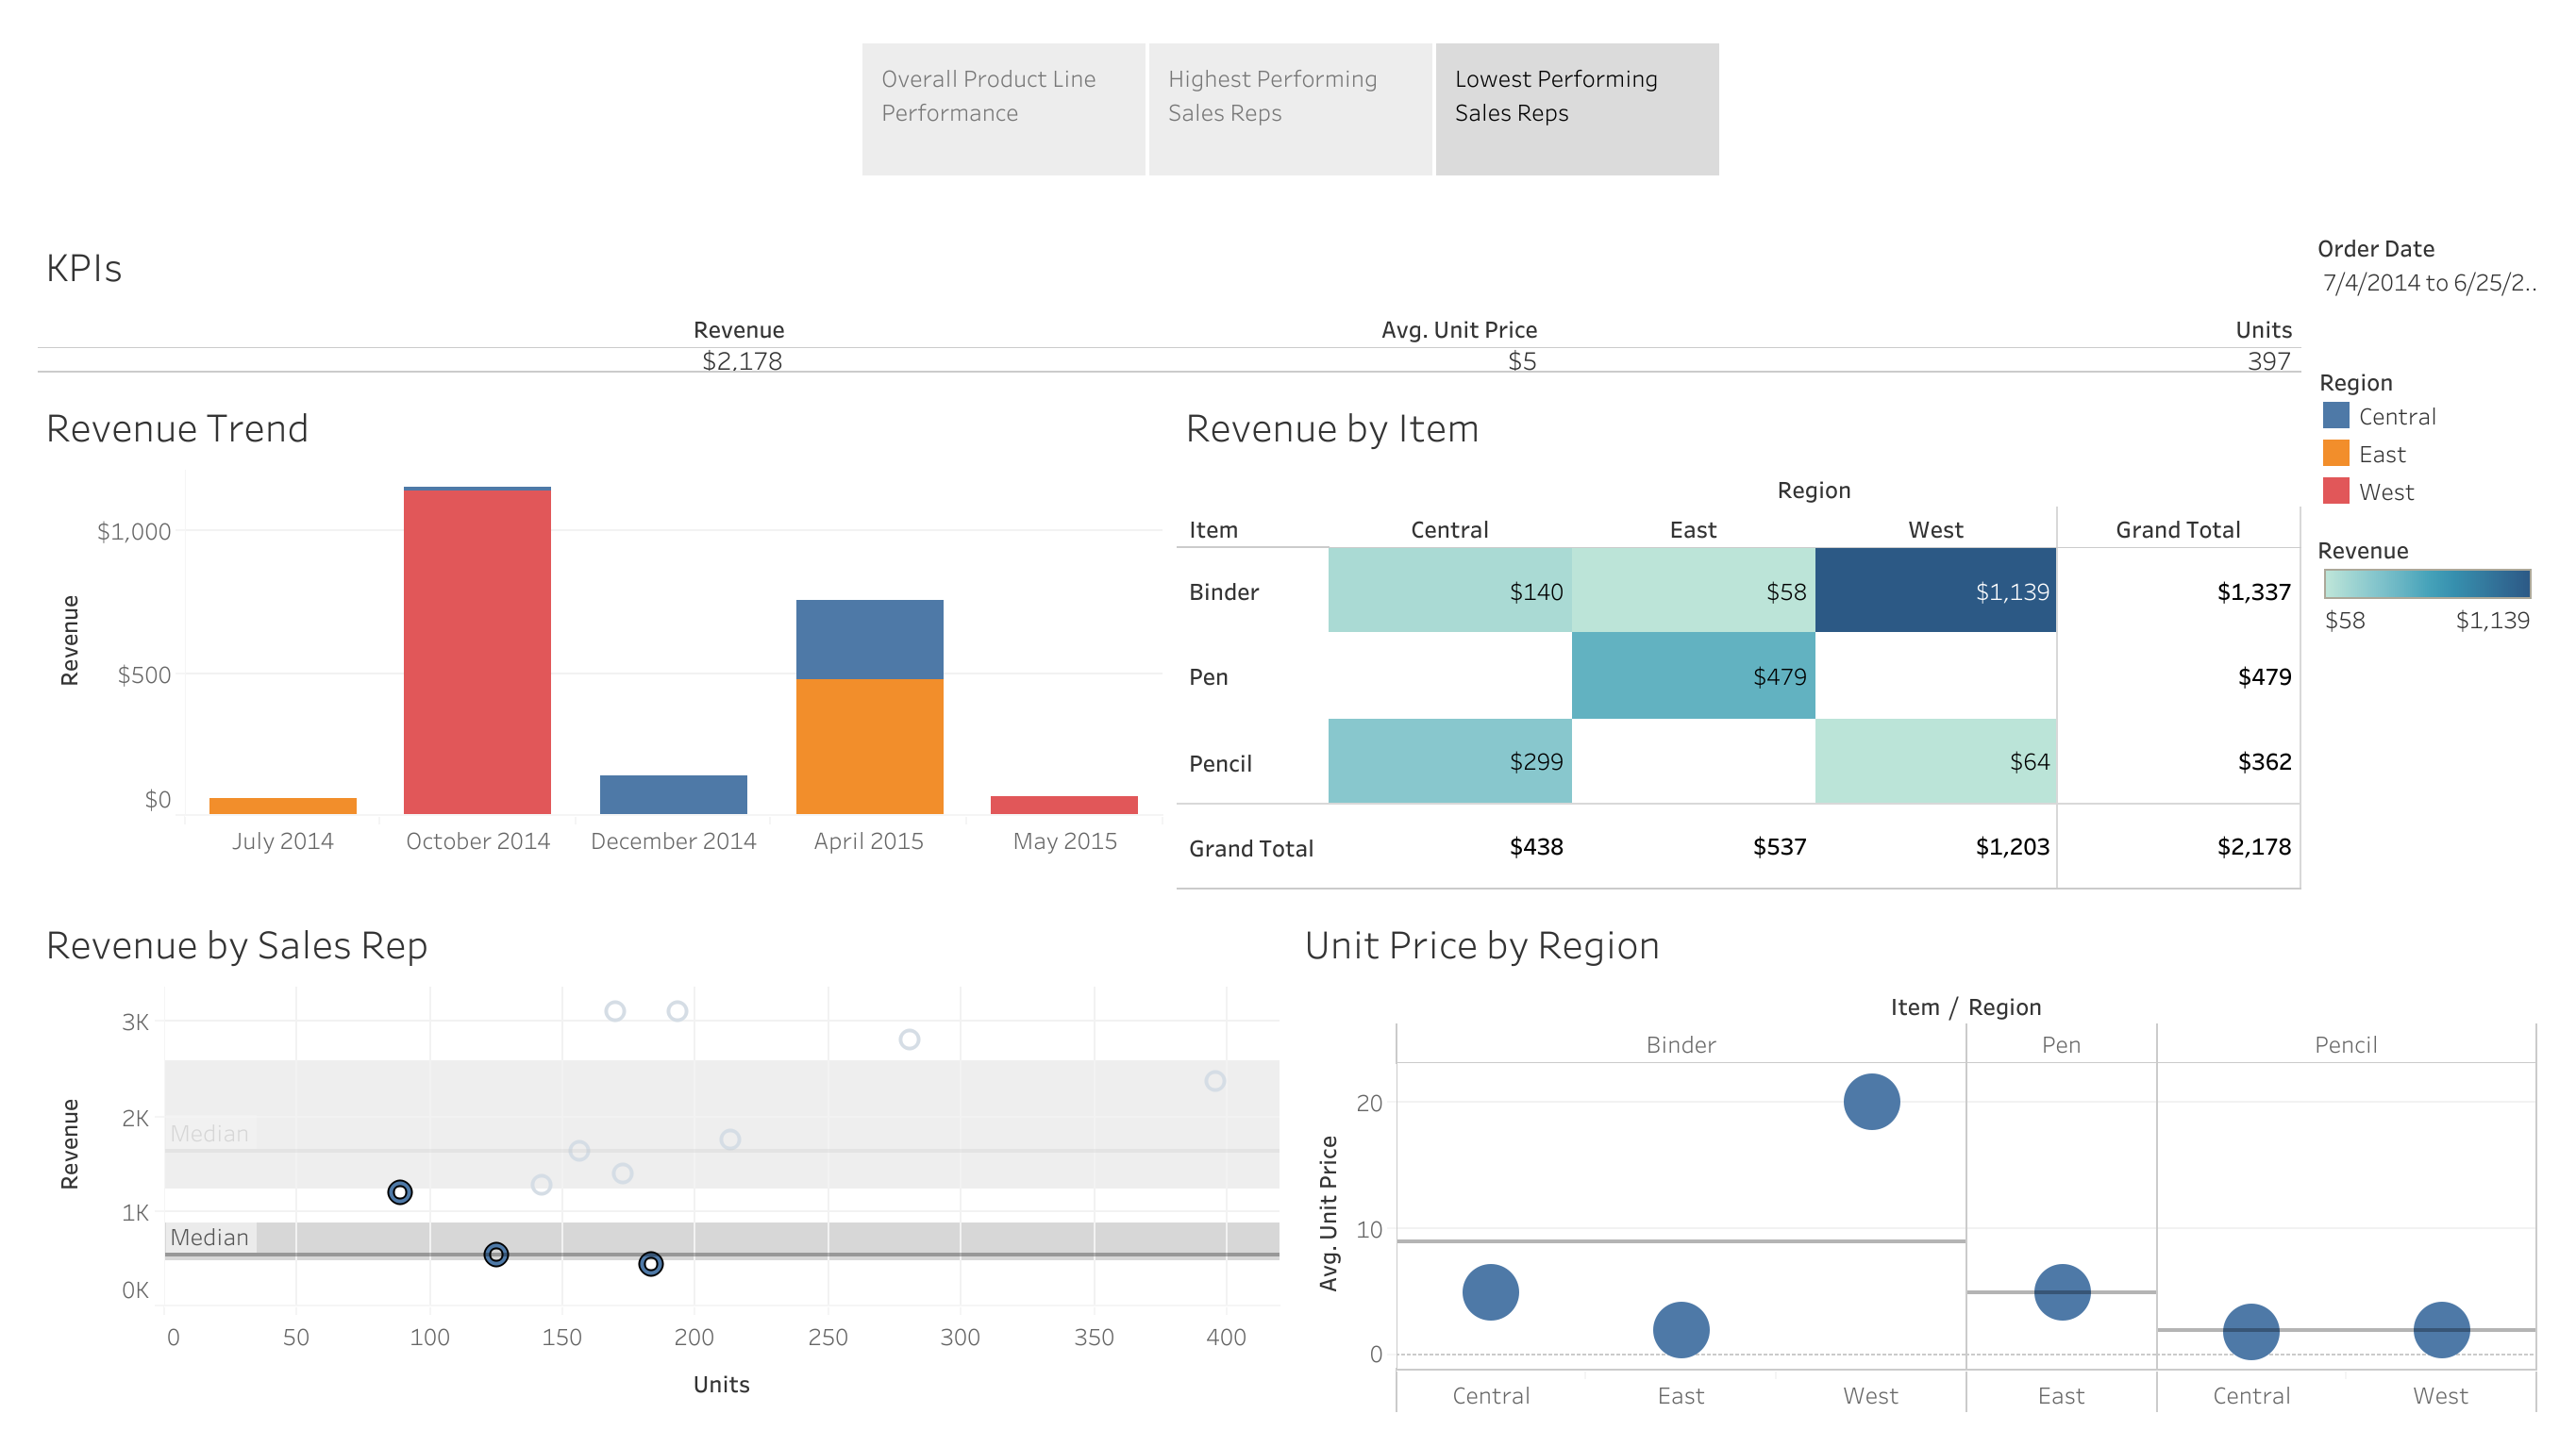

This screenshot's page, from the dashboard's own definition file:
{"tool":"tableau","page":{"name":"Product Line Dashboard","canvas":[1000,1000],"units":"permille","ordinal":0},"visuals":[{"type":"worksheet","title":"KPIs","mark":"Automatic","box":[6.5,10.6,884.5,131.1]},{"type":"filter","title":"KPIs","param":"[federated.02617e81pd71cb13j7m6x1pw9rpz].[none:OrderDate:qk]","box":[891,10.6,102.5,91.4]},{"type":"legend","title":"Revenue Trend","param":"[federated.02617e81pd71cb13j7m6x1pw9rpz].[none:Region:nk]","box":[891,102,102.5,113.9]},{"type":"worksheet","title":"Revenue Trend","mark":"Bar","rows":["Calculation_1773644263620444160"],"cols":["OrderDate"],"box":[6.5,141.7,442.2,422.5]},{"type":"worksheet","title":"Revenue by Item","mark":"Square","rows":["Item"],"cols":["Region"],"box":[448.7,141.7,442.2,422.5]},{"type":"legend","title":"Revenue by Item","param":"[federated.02617e81pd71cb13j7m6x1pw9rpz].[sum:Calculation_1773644263620444160:qk","box":[891,215.9,102.5,94]},{"type":"worksheet","title":"Revenue by Sales Rep","mark":"Automatic","rows":["Calculation_1773644263620444160"],"cols":["Units"],"box":[6.5,564.2,493.5,425.2]},{"type":"worksheet","title":"Unit Price by Region","mark":"Circle","rows":["Unit Price"],"cols":["Item","Region"],"box":[500,564.2,493.5,425.2]}]}

Visuals, with their boxes on the dashboard's canvas, which has no fixed pixel size, in thousandths of its width and height (x1, y1, x2, y2). These are canvas units, not pixel positions in the 2576x1447 screenshot, which may show the page scaled, cropped or inside an application window:
"KPIs" worksheet: [6, 11, 891, 142]
"KPIs" filter: [891, 11, 994, 102]
"Revenue Trend" legend: [891, 102, 994, 216]
"Revenue Trend" worksheet (Bar marks): [6, 142, 449, 564]
"Revenue by Item" worksheet (Square marks): [449, 142, 891, 564]
"Revenue by Item" legend: [891, 216, 994, 310]
"Revenue by Sales Rep" worksheet: [6, 564, 500, 989]
"Unit Price by Region" worksheet (Circle marks): [500, 564, 994, 989]
